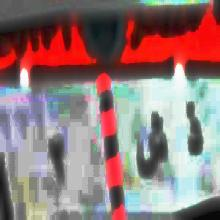2: (43, 127, 71, 190)
sheen: (137, 111, 169, 188)
zaal: (180, 95, 206, 167)
